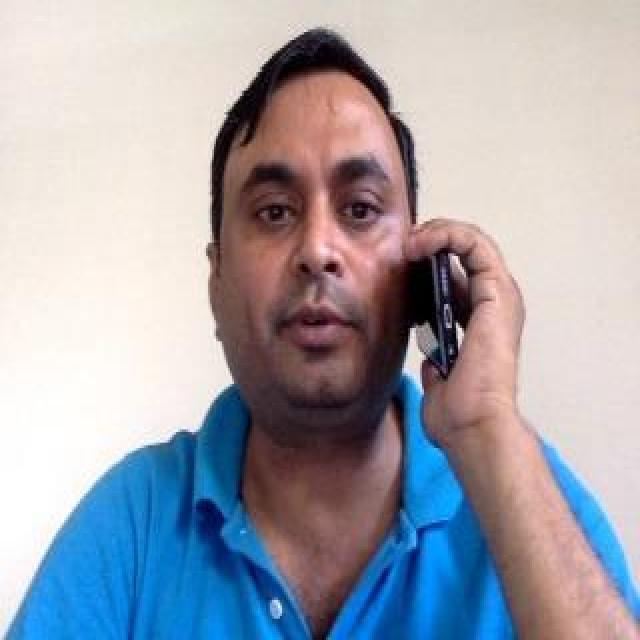phone: (410, 222, 460, 380)
